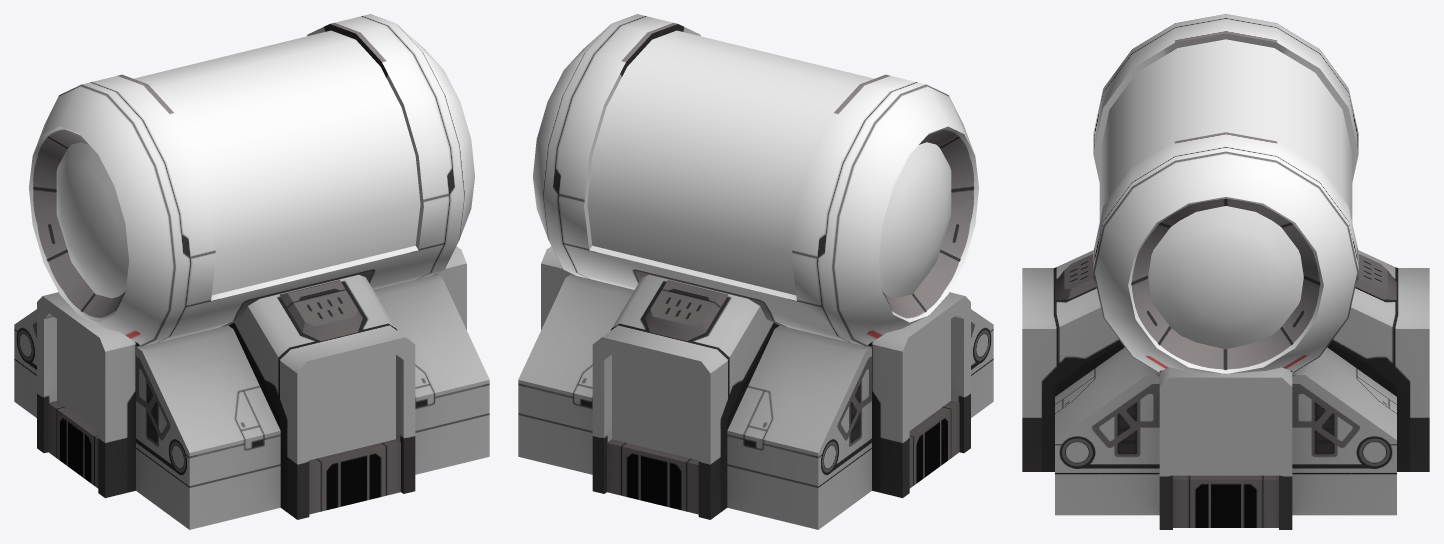
File: storage-tank.glb
3 renders of one model, left to right at view 1: azimuth 30°, elevation 25°; view 2: azimuth 150°, elevation 25°; view 3: azimuth 270°, elevation 25°, orthographic. The views are drawn at different scales.
Parts seen in each view (by area): view 1: storage-tank-2, storage-tank-1; view 2: storage-tank-2, storage-tank-1; view 3: storage-tank-2, storage-tank-1.
Boxes of the visible parts, box(x1,y1,x2,y2) form: storage-tank-2: box(29, 14, 474, 346); storage-tank-1: box(14, 246, 489, 529); storage-tank-2: box(533, 14, 978, 346); storage-tank-1: box(518, 246, 993, 529); storage-tank-2: box(1093, 14, 1358, 373); storage-tank-1: box(1022, 250, 1429, 529).
Bounding box in the file's own units: 4.6 × 4.5 × 4.6.
3 materials, 2 textured.
